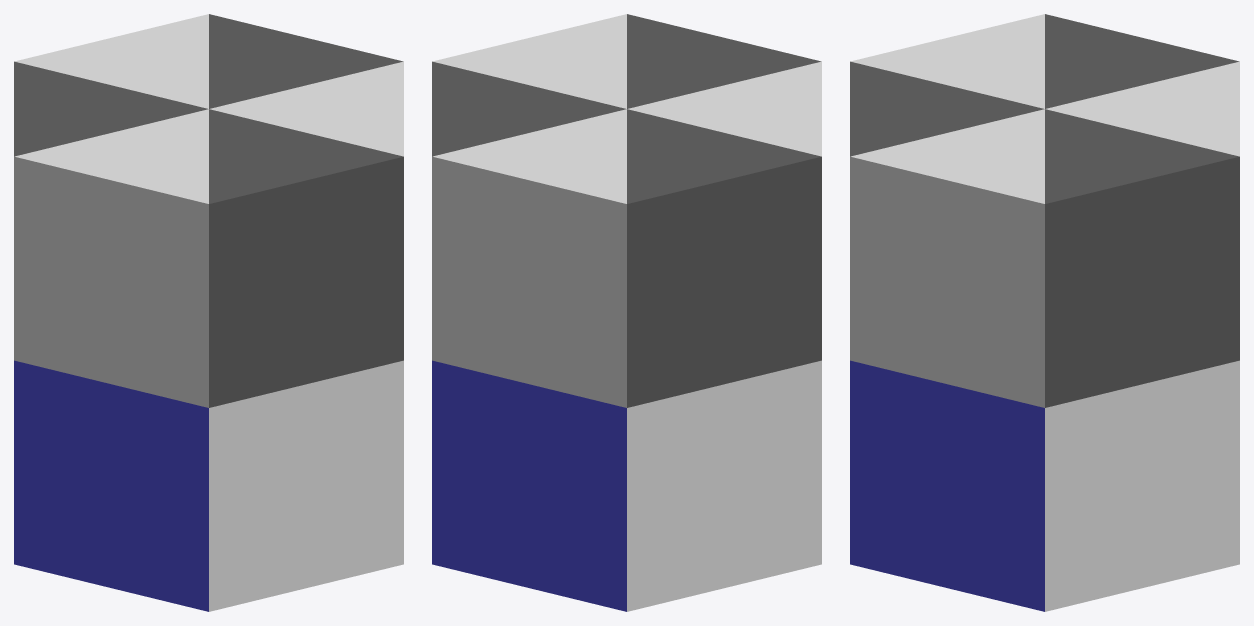
File: HexagonalPrism.fbx
3 views of the same model, side by side, from view 1: azimuth 30°, elevation 25°; view 2: azimuth 150°, elevation 25°; view 3: azimuth 270°, elevation 25° (orthographic).
Parts seen in each view (by area): view 1: HexagonalPrism; view 2: HexagonalPrism; view 3: HexagonalPrism.
Part boxes in pixels (bbox=[...]): HexagonalPrism: bbox=[14, 14, 403, 611]; HexagonalPrism: bbox=[432, 14, 821, 611]; HexagonalPrism: bbox=[850, 14, 1239, 611].
Bounding box in the file's own units: 570 × 570 × 493.
